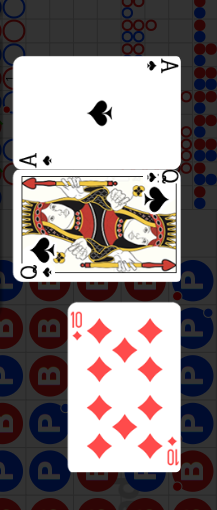10D: (165, 435, 178, 467), (70, 310, 83, 342)
AS: (143, 58, 178, 76)
